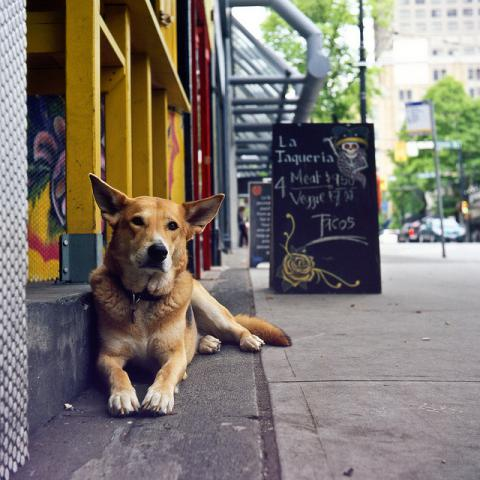car: (419, 218, 467, 243), (397, 223, 420, 242)
